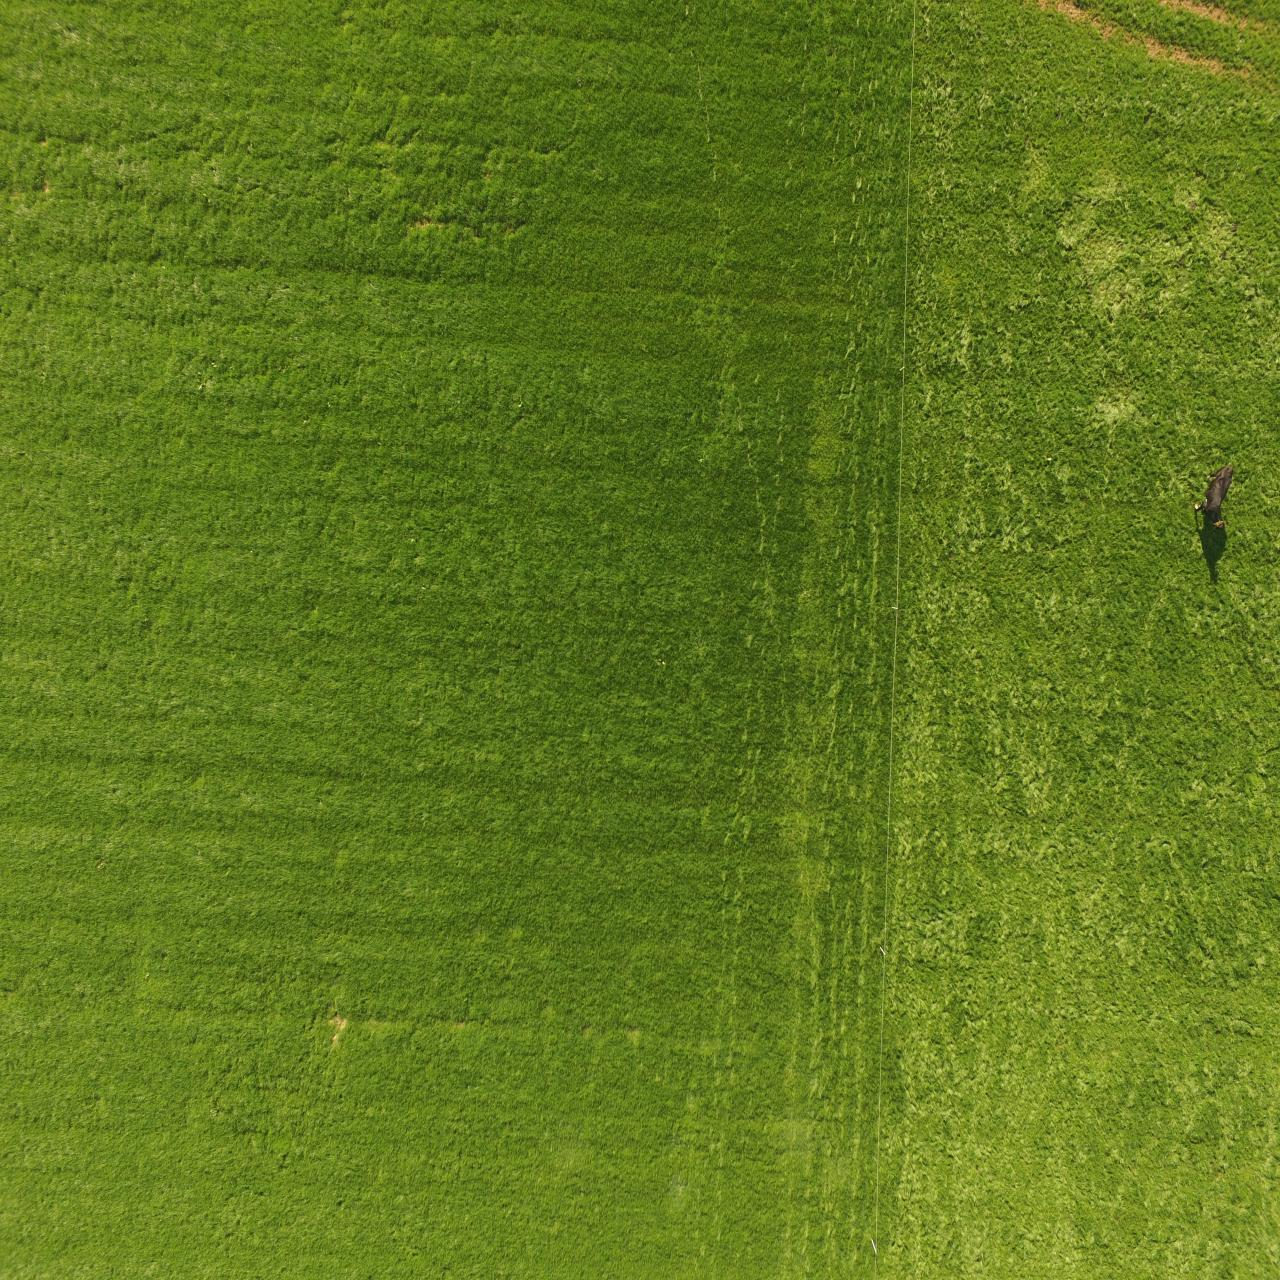cow: (1189, 451, 1241, 550)
